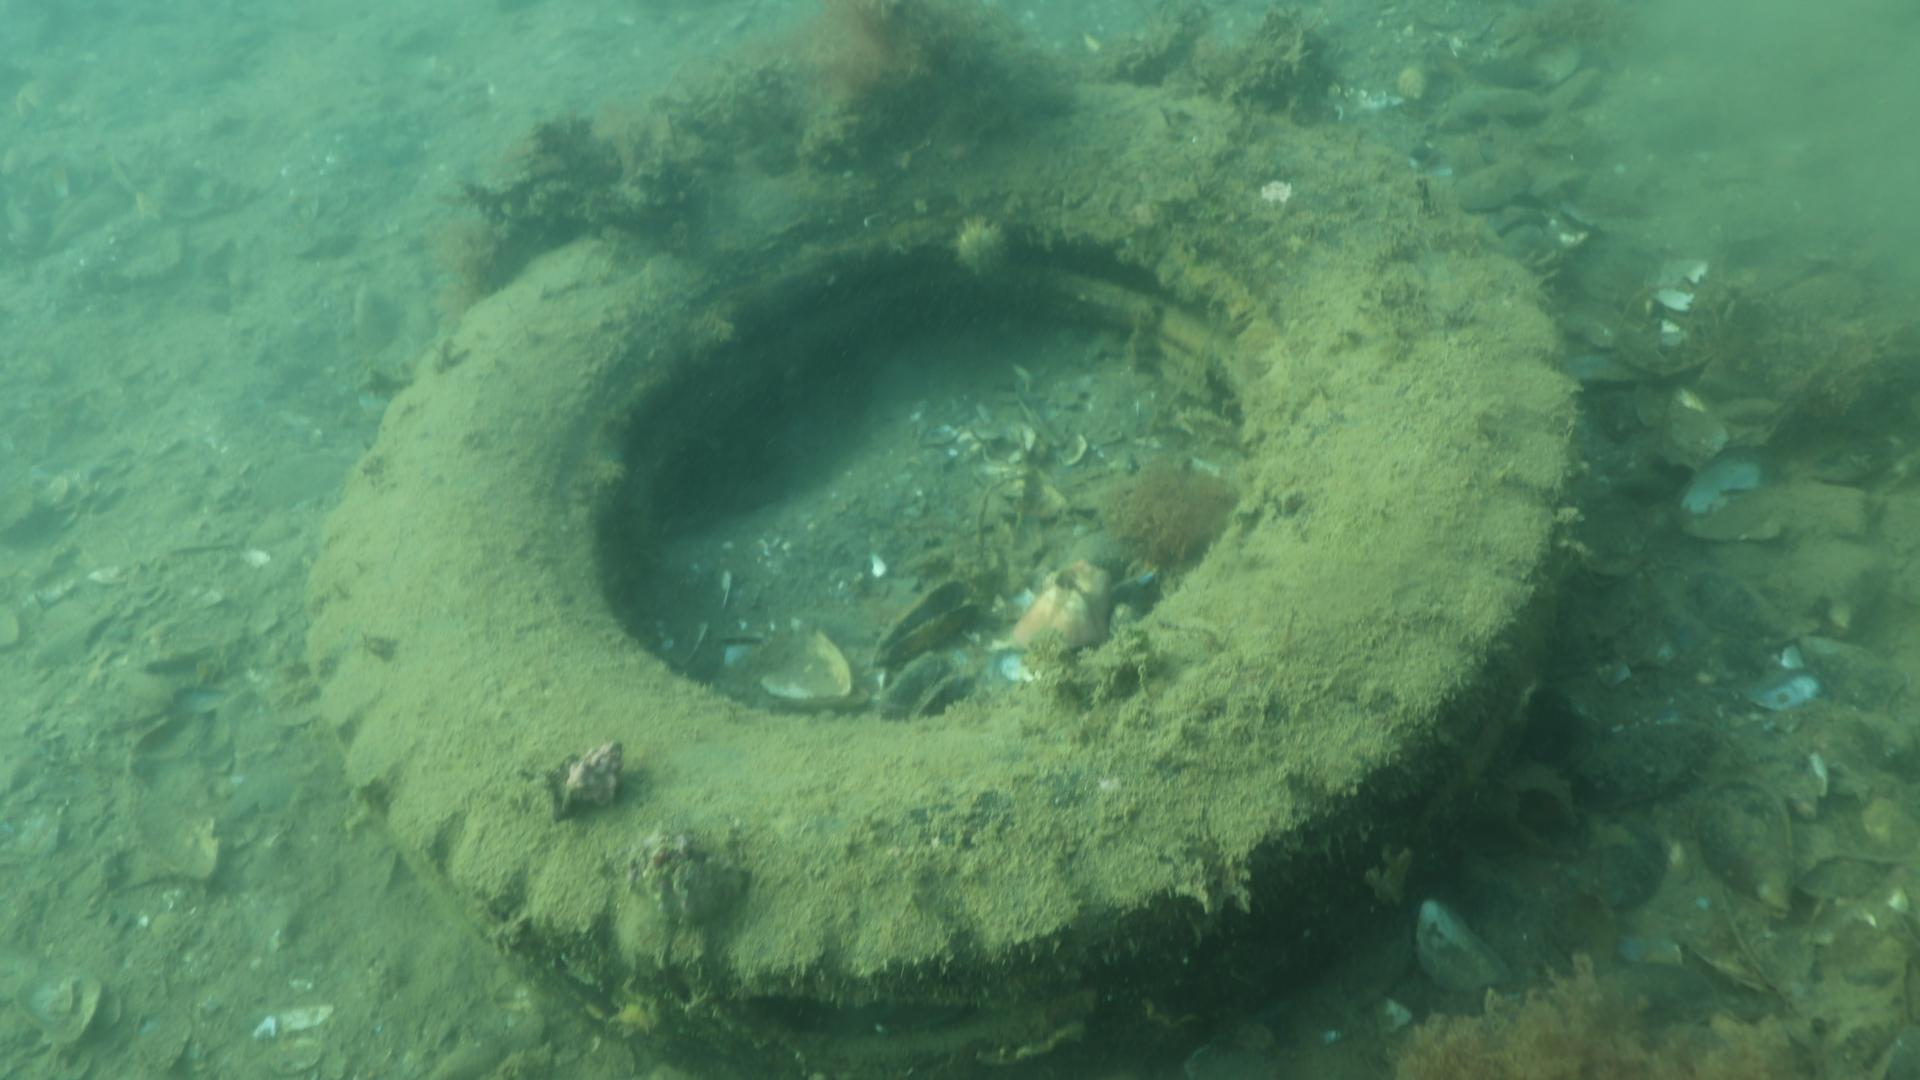tire: (299, 80, 1582, 1080)
